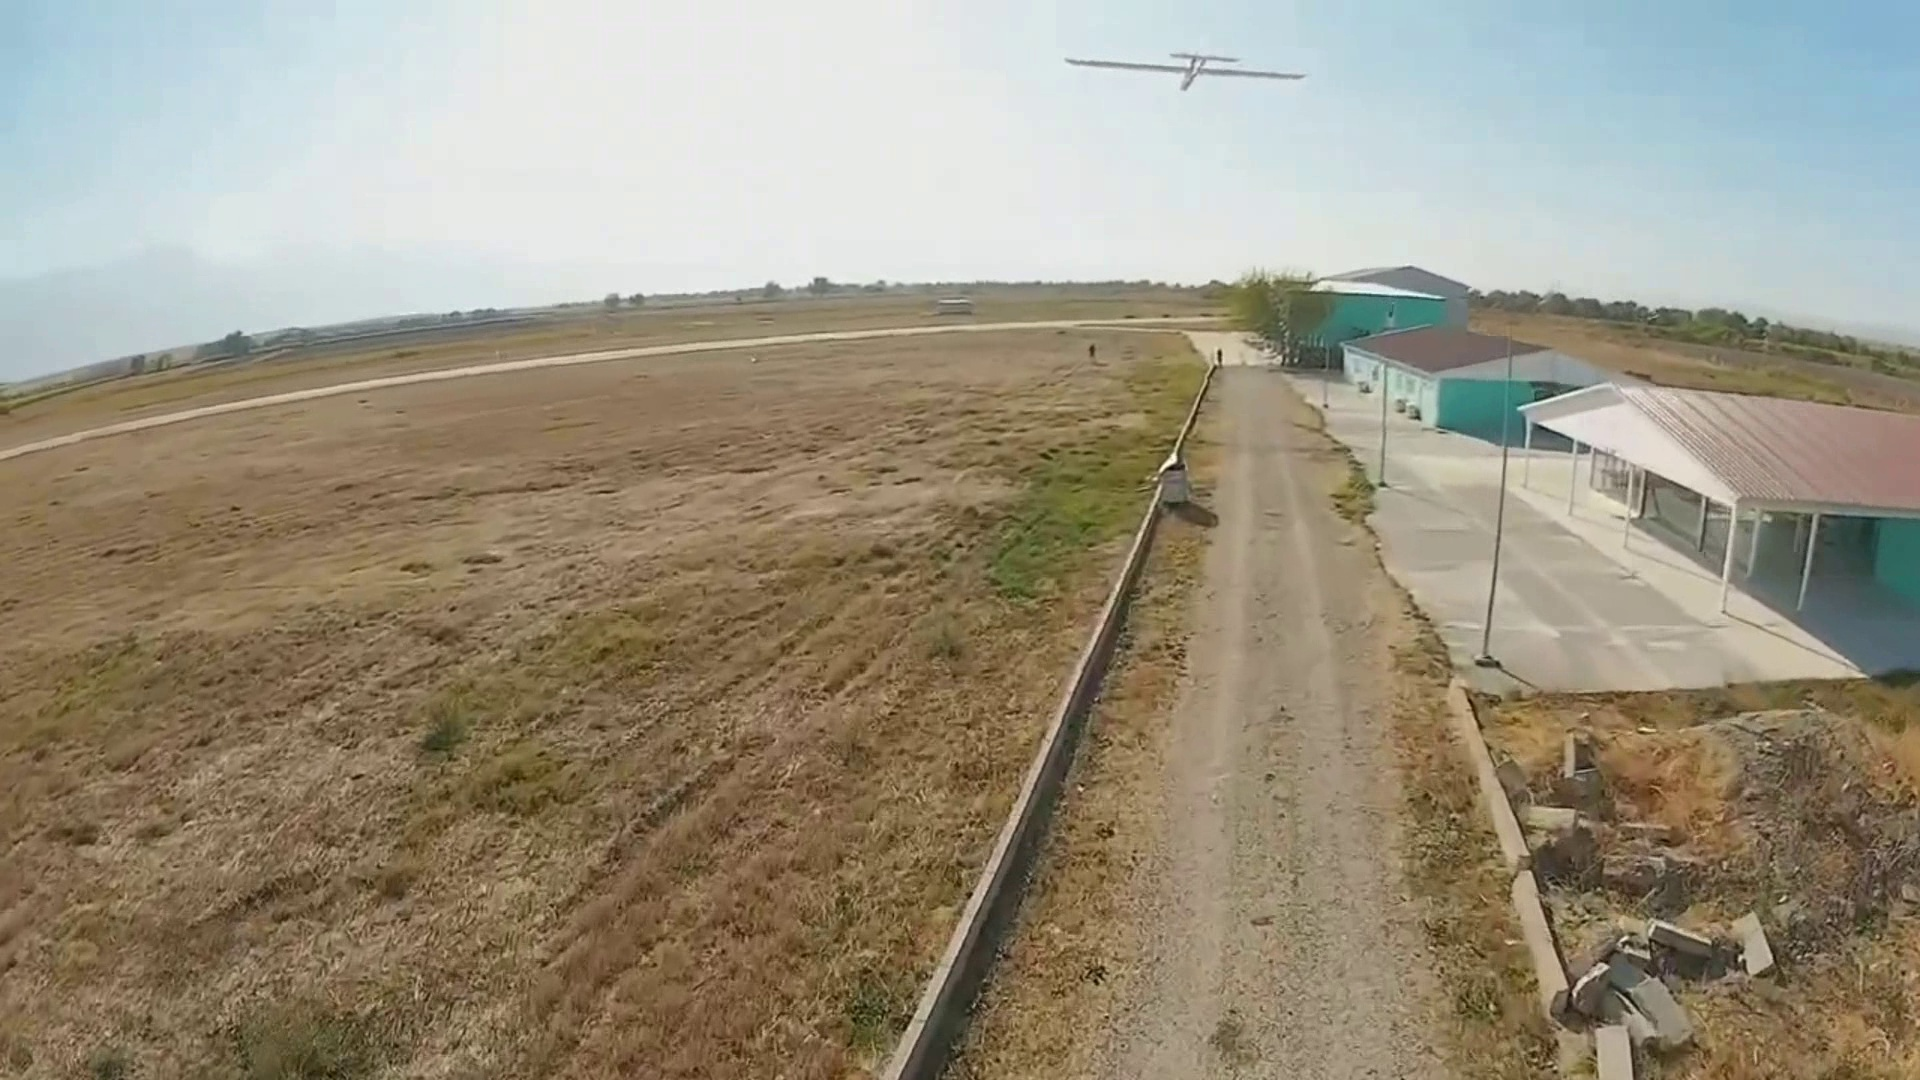airplane: (1063, 48, 1308, 90)
